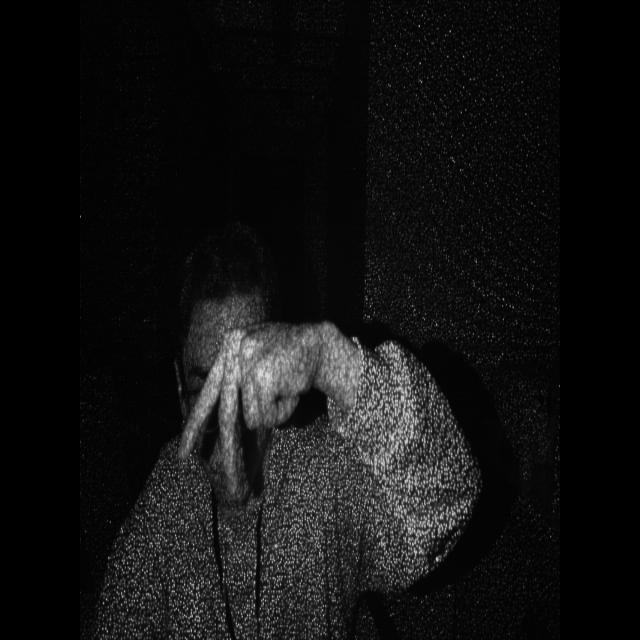P: (169, 301, 321, 504)
